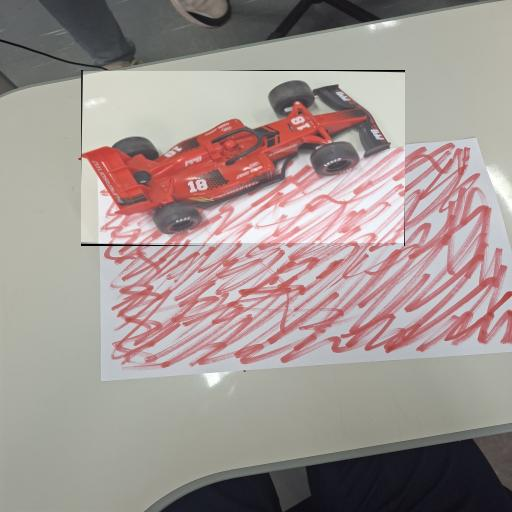carro: (81, 72, 405, 243)
